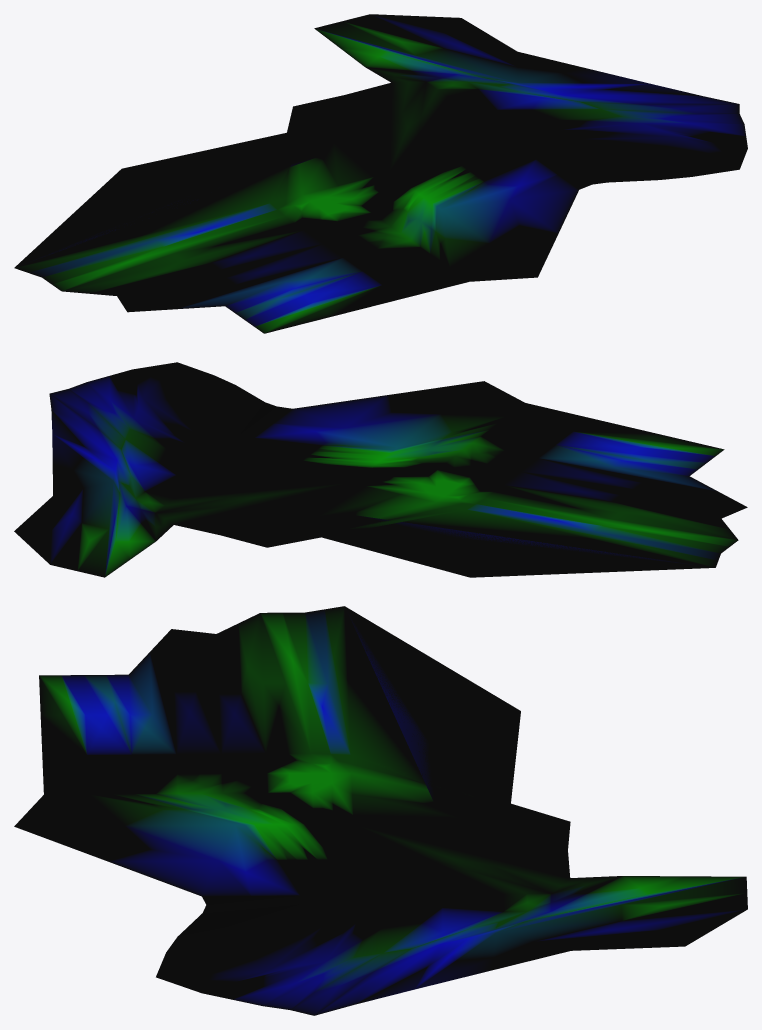
The picture shows the model from 3 angles, top to bottom: view 1: azimuth 30°, elevation 25°; view 2: azimuth 150°, elevation 25°; view 3: azimuth 270°, elevation 25°; orthographic projection. The views are drawn at different scales.
Parts seen in each view (by area): view 1: Sprite; view 2: Sprite; view 3: Sprite.
Boxes of the visible parts, bbox=[...] form: Sprite: bbox=[14, 14, 747, 333]; Sprite: bbox=[14, 362, 747, 577]; Sprite: bbox=[14, 606, 747, 1015].
Size of the model in its own units: 3946 by 2.46 by 2990.
